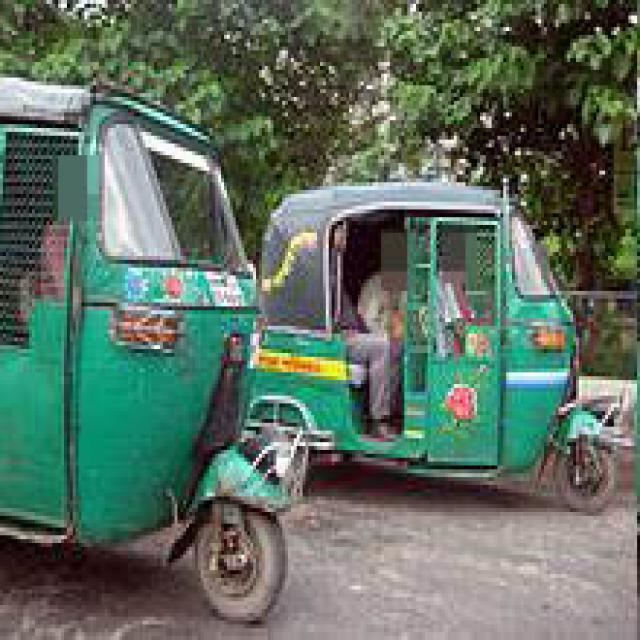CNG: (1, 71, 283, 636), (262, 178, 619, 546)
